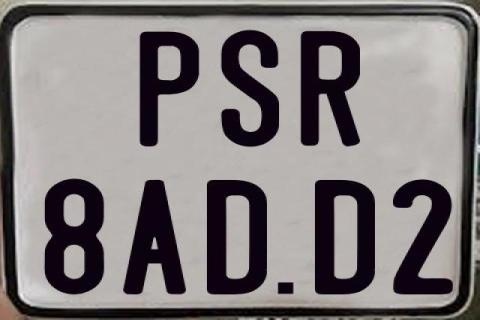0: (42, 177, 107, 297), (391, 177, 456, 296)
A: (123, 180, 189, 297)
D: (313, 178, 377, 298), (205, 179, 269, 297)
P: (138, 29, 200, 148)
R: (298, 29, 359, 145)
S: (219, 27, 279, 147)
